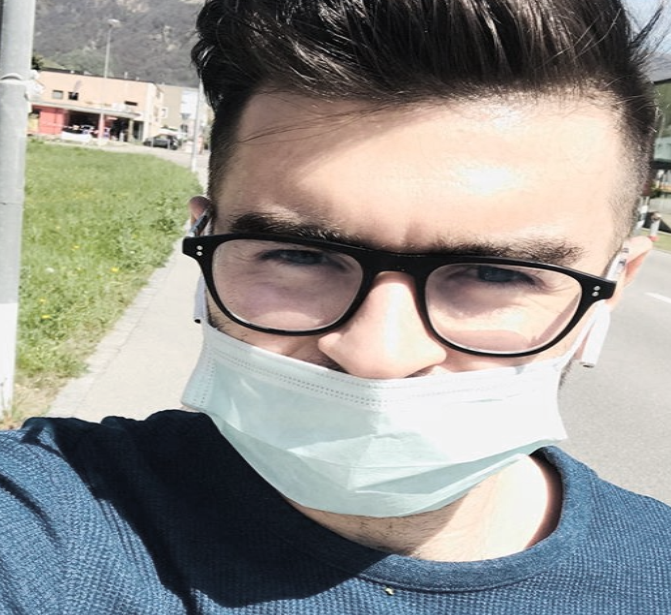mask_weared_incorrect: (175, 43, 666, 525)
